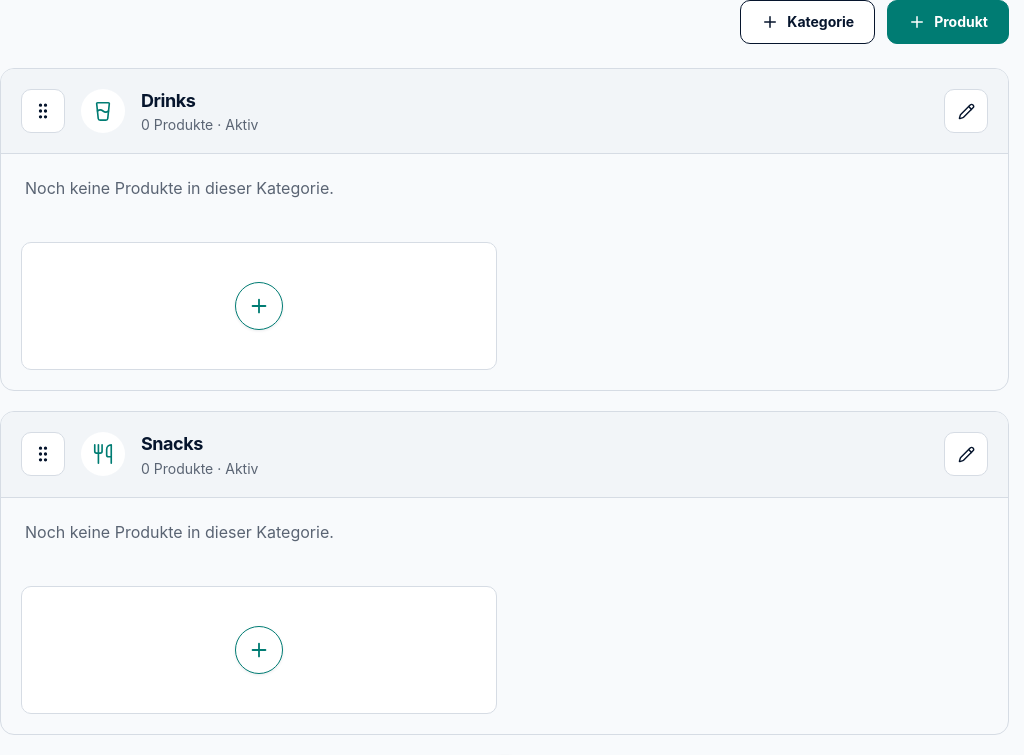
it: CatalogPanel › selects product categories through the custom icon menu
expect the button "Kategorie" is shown: met, box [740,0,875,44]
Click the button "Produkt" at (948, 22), box [887,0,1009,44]
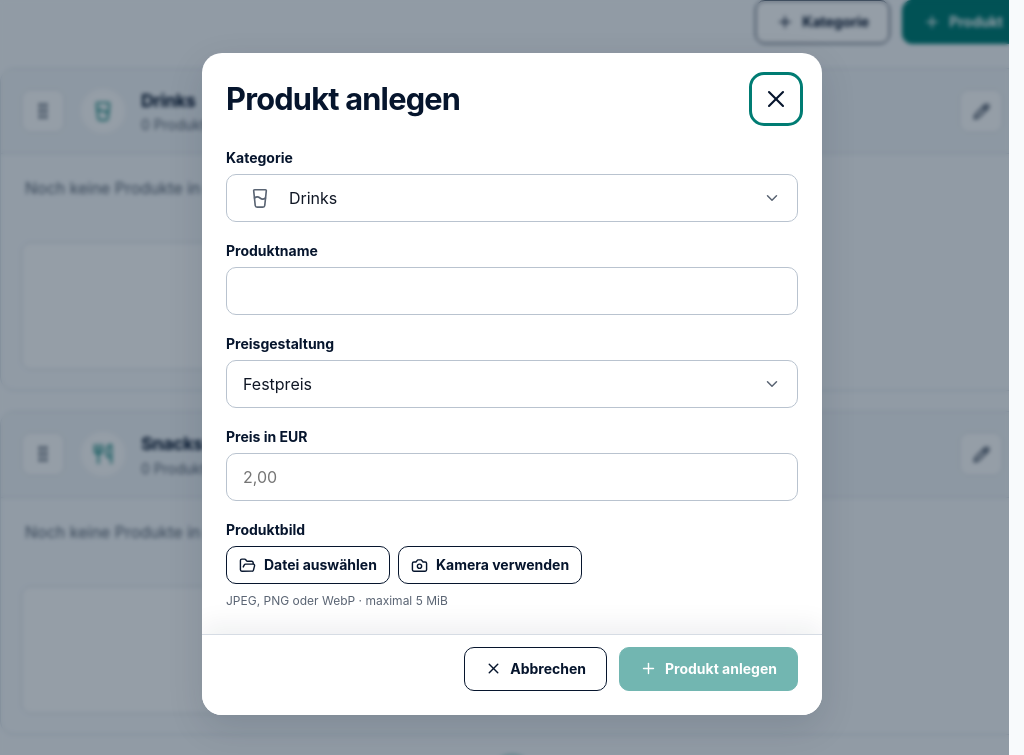
expect the 2nd icon is shown: met, box [249,187,271,209]
Click the dropdown named "Kategorie" at (313, 198), box [226,174,798,222]
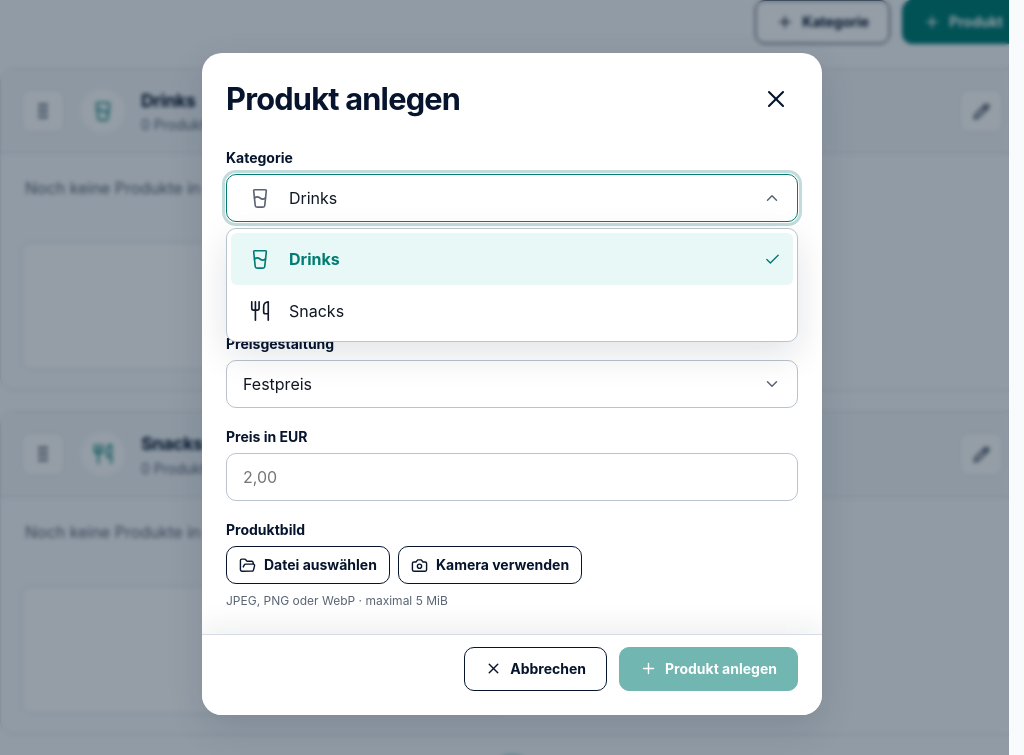
Click the option "Snacks" at (297, 311), box [249,300,344,322]
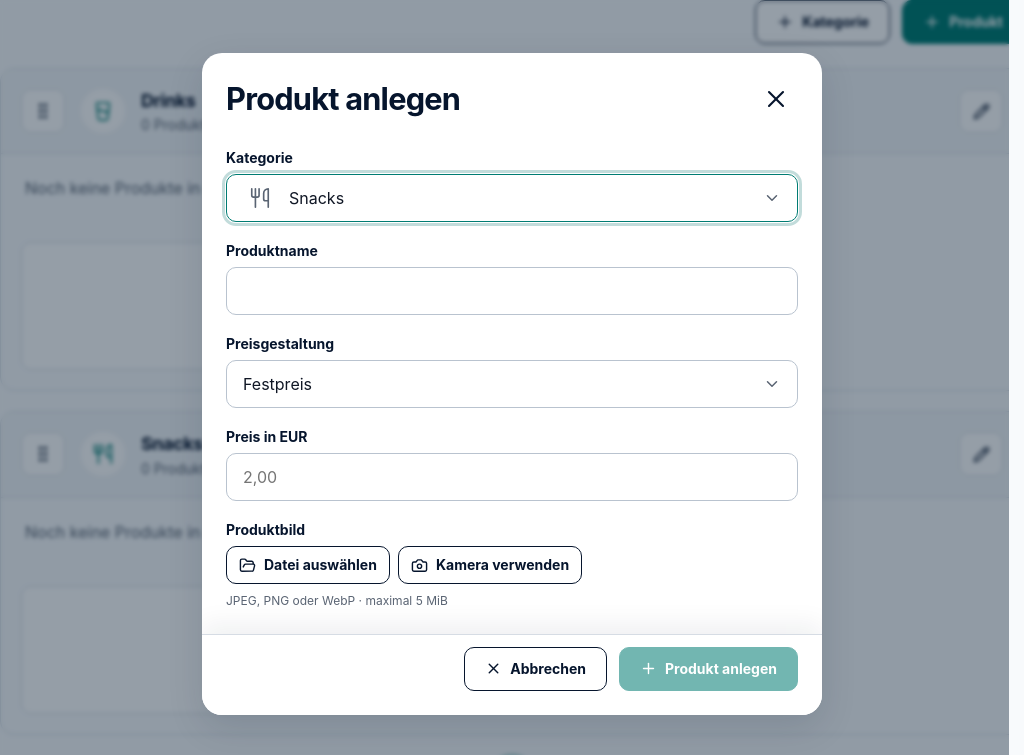
expect the 2nd icon is shown: met, box [249,187,271,209]
expect the dropdown named "Kategorie" reads "Snacks": met, box [226,174,798,222]
